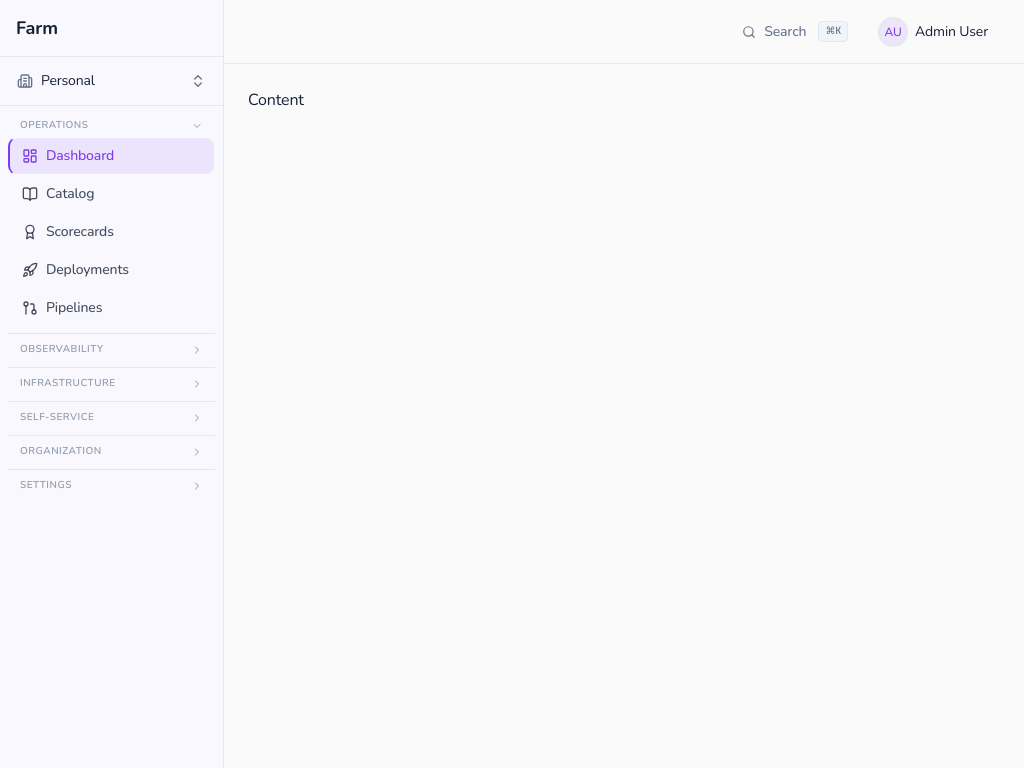
Test: AppShell › should open user menu and show details
Click the button "AU Admin User": (934, 32) [867,10,1000,54]
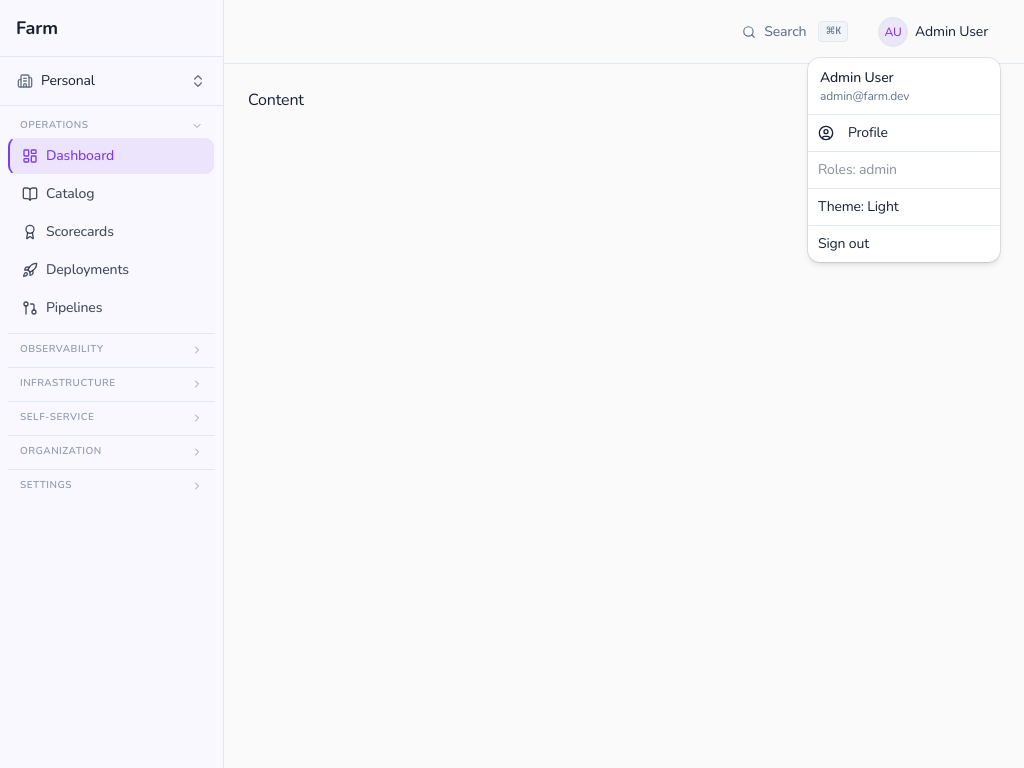
Check: the text "admin@farm.dev" is shown, box [820,88,909,104]
Check: the menu item "Roles: admin" is shown, box [818,160,897,179]
Check: the menu item "Sign out" is shown, box [818,234,869,253]
